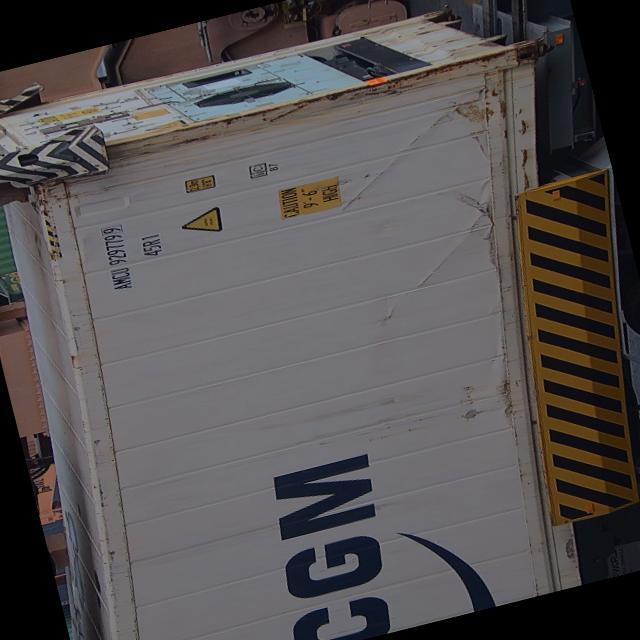rust: (207, 34, 534, 141)
